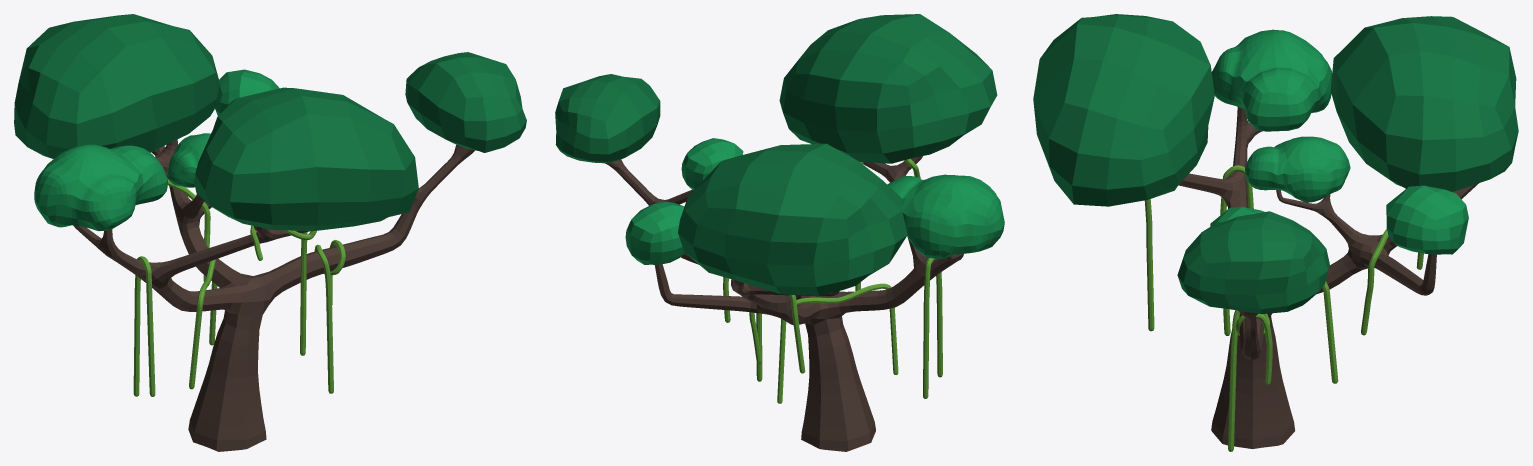
File: jungle_tree_1.fbx
3 views of the same model, side by side, from view 1: azimuth 30°, elevation 25°; view 2: azimuth 150°, elevation 25°; view 3: azimuth 270°, elevation 25° (orthographic). The views are drawn at different scales.
Parts seen in each view (by area): view 1: tree_1; view 2: tree_1; view 3: tree_1.
Boxes of the visible parts, x1,y1,x2,y2 form: tree_1: [14, 14, 526, 451]; tree_1: [555, 14, 1004, 451]; tree_1: [1033, 14, 1518, 451].
Size of the model in its own units: 3172 by 2539 by 2689.
